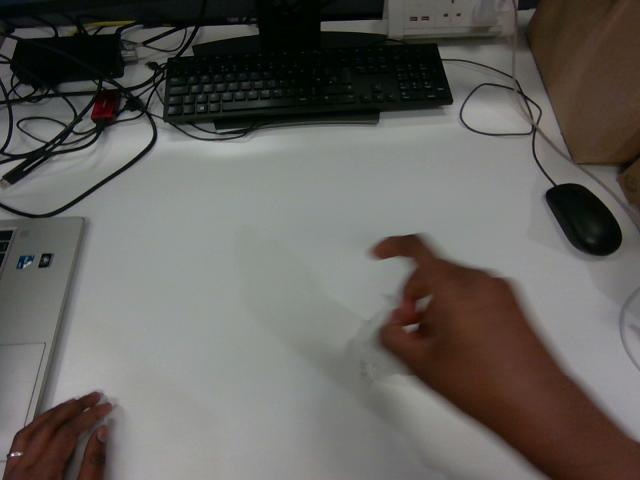syringe: (353, 311, 407, 380)
